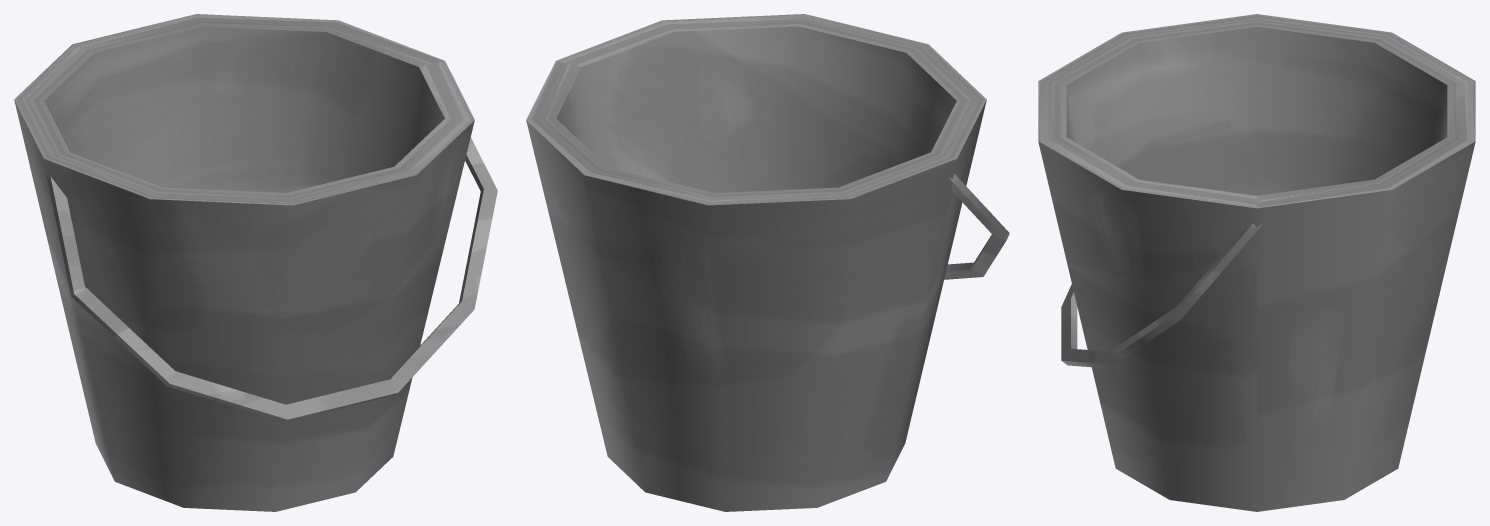
The model's file is mrbucket.fbx.
3 renders of one model, left to right at view 1: azimuth 30°, elevation 25°; view 2: azimuth 150°, elevation 25°; view 3: azimuth 270°, elevation 25°, orthographic.
Visible parts, largest first — view 1: pCube4; view 2: pCube4; view 3: pCube4.
Part boxes in pixels (x1,y1,x2,y2): pCube4: [14, 14, 497, 511]; pCube4: [526, 14, 1009, 511]; pCube4: [1038, 14, 1475, 511].
Bounding box in the file's own units: 5.84 × 4.48 × 5.26.
